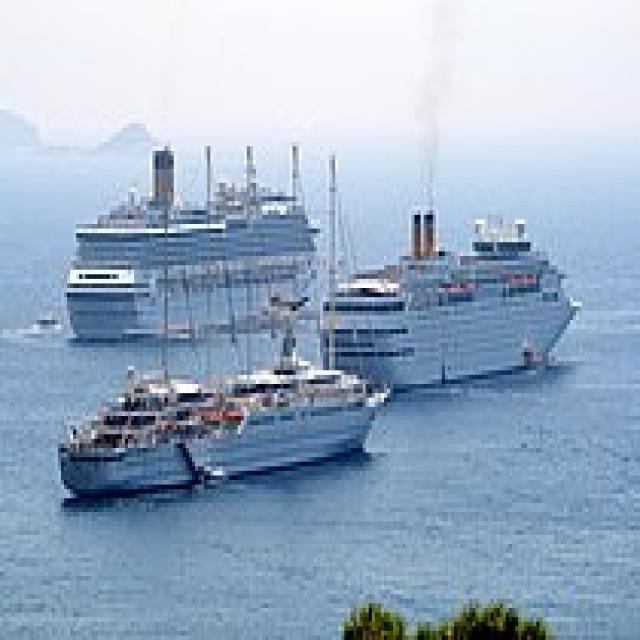Ship: (312, 202, 593, 399), (53, 147, 321, 344), (44, 376, 401, 504)
